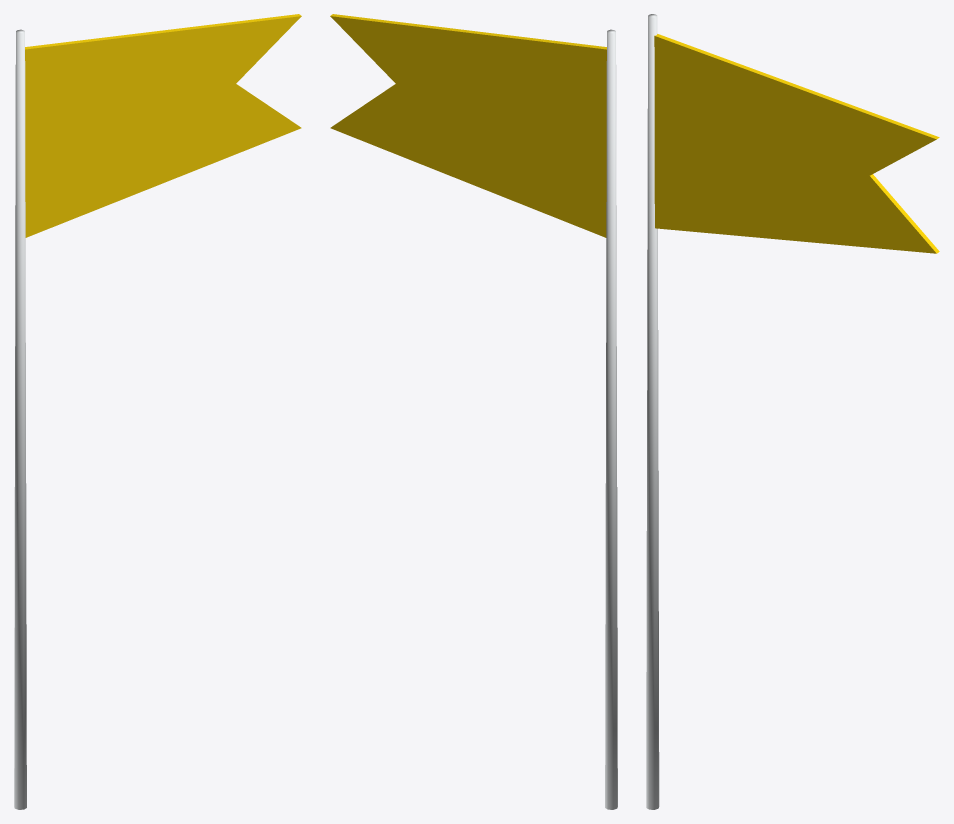
The model's file is Flag.glb.
3 renders of one model, left to right at view 1: azimuth 30°, elevation 25°; view 2: azimuth 150°, elevation 25°; view 3: azimuth 330°, elevation 25°, orthographic. The views are drawn at different scales.
Visible parts, largest first — view 1: Flag; view 2: Flag; view 3: Flag.
Boxes of the visible parts, left/top/right/bottom form: Flag: left=14, top=14, right=301, bottom=809; Flag: left=330, top=14, right=617, bottom=809; Flag: left=646, top=14, right=939, bottom=809.
Bounding box in the file's own units: 3.47 × 9 × 0.14.
